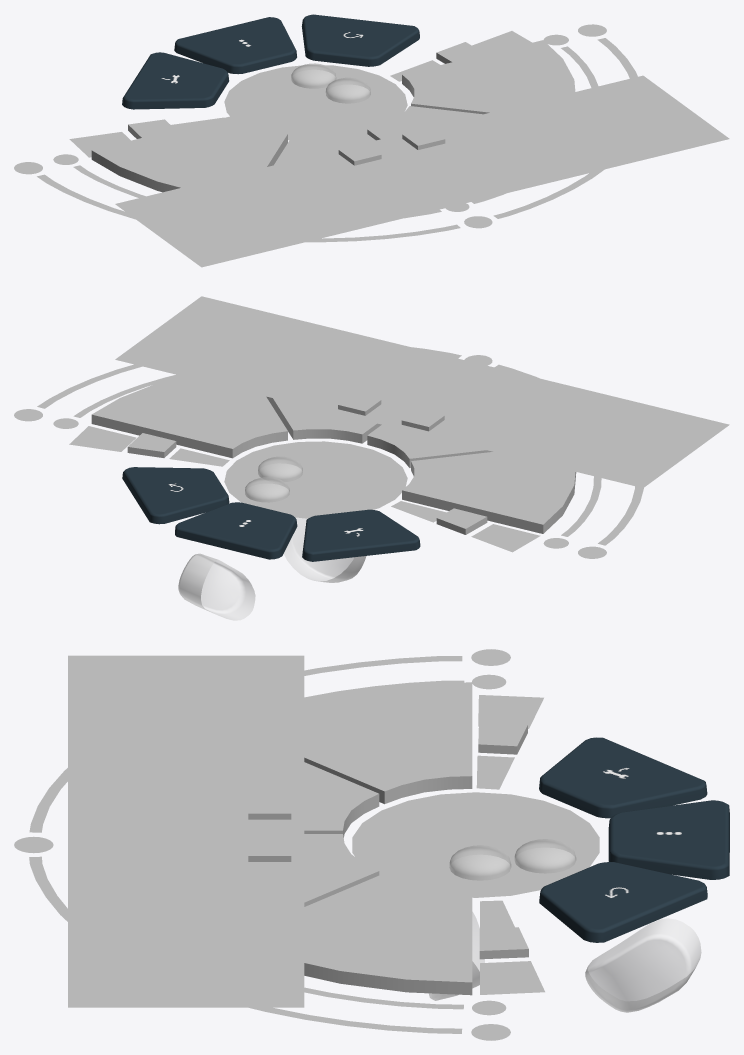
File: browser3D.fbx
3 renders of one model, top to bottom at view 1: azimuth 30°, elevation 25°; view 2: azimuth 150°, elevation 25°; view 3: azimuth 270°, elevation 25°, orthographic. The views are drawn at different scales.
Parts seen in each view (by area): view 1: screen, center, btn_up_04, btn_up_01, btn_back, btn_menu, btn_release_quit, arc_toolBox, btn_up_02, btn_up_03, btn_nav_Left, btn_nav_Right (+5 smaller); view 2: screen, center, btn_up_01, btn_up_04, btn_menu, btn_release_quit, btn_back, btn_ghost_triggerGrip, btn_up_02, btn_nav_Left, btn_nav_Right, btn_up_03 (+7 smaller); view 3: screen, center, btn_up_01, btn_up_04, btn_back, btn_release_quit, btn_menu, btn_ghost_triggerGrip, arc_toolBox, btn_nav_Left, btn_nav_Right, btn_up_03 (+7 smaller).
Part boxes in pixels (x1,y1,x2,y2): screen: (115, 75, 729, 267); center: (224, 65, 407, 140); btn_up_04: (91, 116, 287, 192); btn_up_01: (402, 40, 575, 114); btn_back: (301, 14, 419, 66); btn_menu: (174, 17, 296, 74); btn_release_quit: (122, 52, 229, 109); arc_toolBox: (14, 24, 637, 242); btn_up_02: (367, 106, 482, 140); btn_up_03: (274, 130, 375, 165); btn_nav_Left: (390, 31, 531, 81); btn_nav_Right: (69, 117, 223, 157); screen: (115, 296, 729, 487); center: (224, 441, 407, 518); btn_up_01: (91, 376, 287, 458); btn_up_04: (402, 452, 576, 533); btn_menu: (175, 502, 297, 559); btn_release_quit: (302, 509, 420, 561); btn_back: (122, 467, 229, 524); btn_ghost_triggerGrip: (178, 553, 255, 620); btn_up_02: (266, 396, 381, 443); btn_nav_Left: (69, 426, 229, 466); btn_nav_Right: (391, 501, 540, 552); btn_up_03: (367, 424, 492, 467); screen: (68, 655, 304, 1007); center: (352, 792, 599, 897); btn_up_01: (304, 873, 472, 995); btn_up_04: (304, 682, 472, 804); btn_back: (539, 862, 707, 942); btn_release_quit: (539, 737, 707, 818); btn_menu: (608, 800, 729, 879); btn_ghost_triggerGrip: (585, 918, 701, 1012); arc_toolBox: (14, 649, 510, 1040); btn_nav_Left: (479, 900, 544, 994); btn_nav_Right: (476, 695, 543, 789); btn_up_03: (304, 762, 379, 837).
Size of the model in its own units: 0.2056 by 0.0418 by 0.1589.
